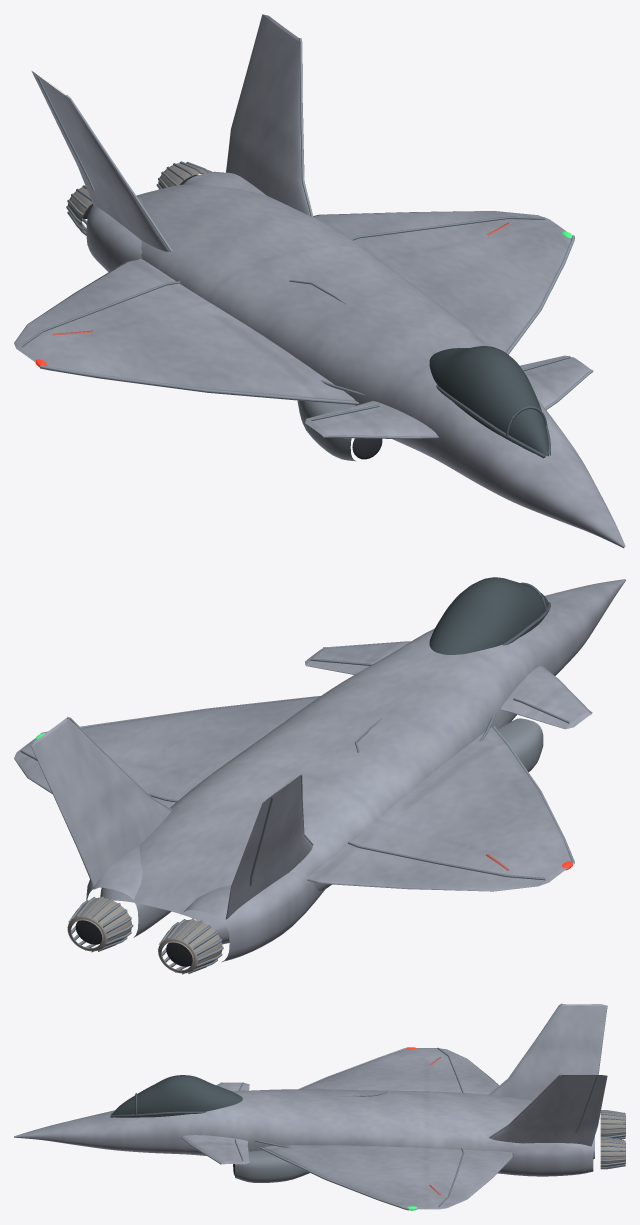
Rendered from j-20-battlefront.glb.
3 renders of one model, top to bottom at view 1: azimuth 30°, elevation 25°; view 2: azimuth 150°, elevation 25°; view 3: azimuth 270°, elevation 25°, orthographic. The views are drawn at different scales.
Parts seen in each view (by area): view 1: Chengdu J-20 | Battlefront; view 2: Chengdu J-20 | Battlefront; view 3: Chengdu J-20 | Battlefront.
Part boxes in pixels (x1,y1,x2,y2): Chengdu J-20 | Battlefront: (14,14,625,548); Chengdu J-20 | Battlefront: (14,577,625,974); Chengdu J-20 | Battlefront: (14,1003,625,1210).
Size of the model in its own units: 7.28 by 2.45 by 11.61.
11 materials, 1 textured.
